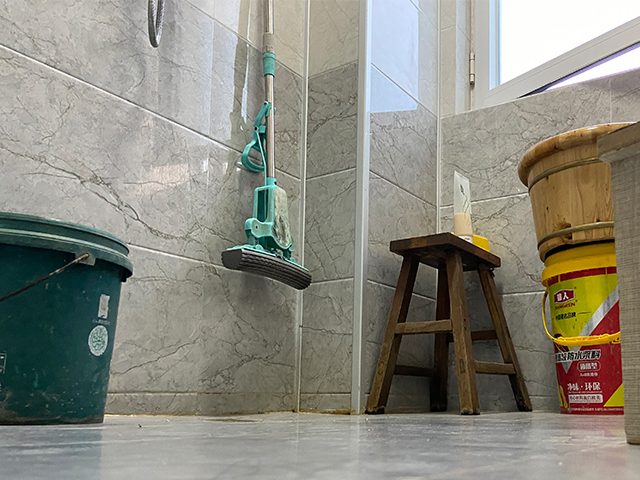stool: (365, 232, 533, 417)
